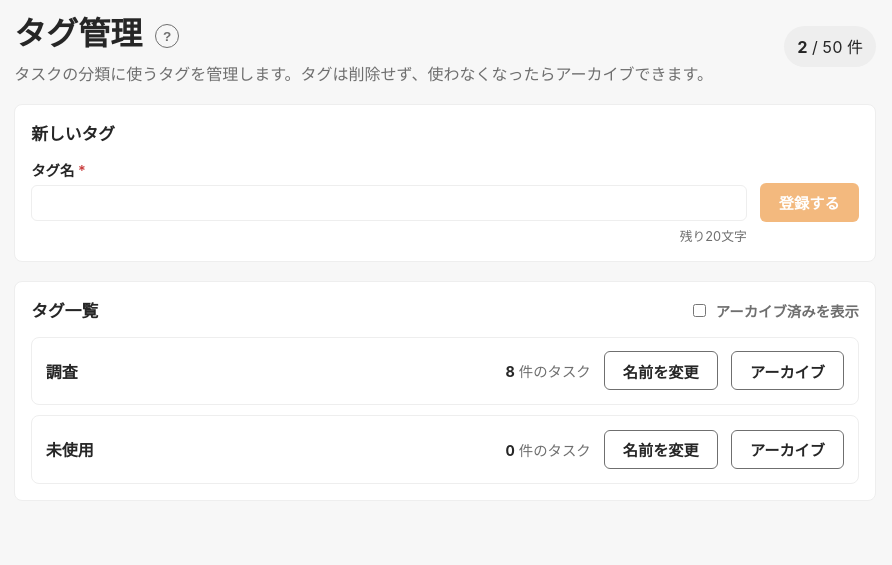
Scenario: TagManagementView › 付与数順の一覧・アクティブ件数を表示し、アーカイブ済みは既定で隠す
This screenshot has width=892, height=565.
Expected: the element with class "active-count" reads "2 / 50 件", top-left (784, 26), bottom-right (876, 67)
Expected: the elements with class "tag-name" read "調査", "未使用", in this order, top-left (46, 359), bottom-right (78, 383); top-left (46, 438), bottom-right (94, 462)
What coordinates should you click on to do the following:
click the checkbox labelled "アーカイブ済みを表示"
I would click on:
 (700, 310)
Its box is top-left (693, 304), bottom-right (706, 317).
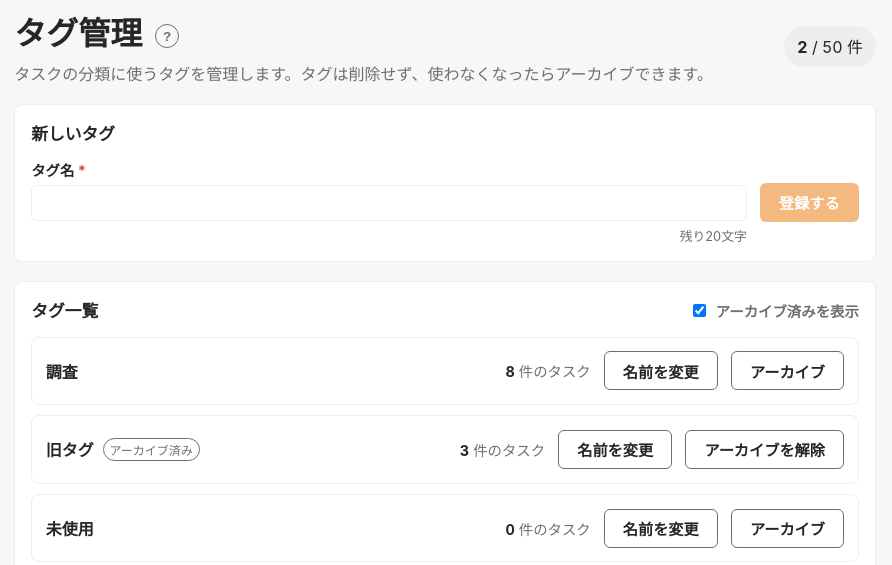
Expected: the elements with class "tag-name" read "調査", "旧タグ", "未使用", in this order, top-left (46, 359), bottom-right (78, 383); top-left (46, 438), bottom-right (94, 462); top-left (46, 516), bottom-right (94, 540)
